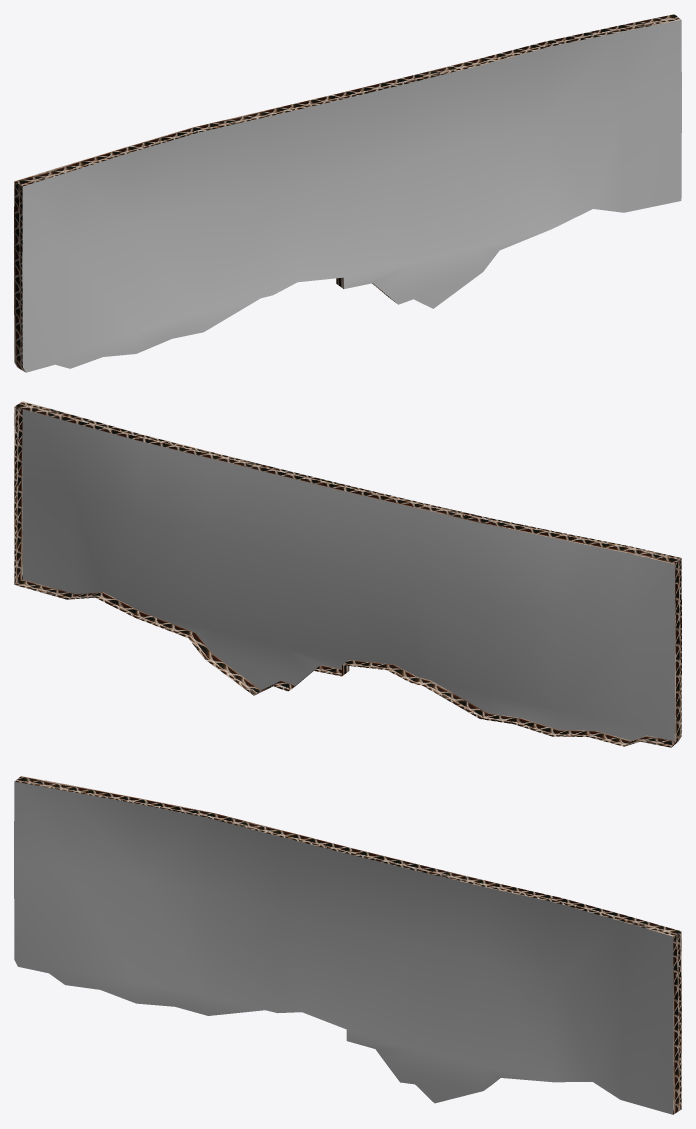
File: SK_Border_002.fbx
3 renders of one model, top to bottom at view 1: azimuth 30°, elevation 25°; view 2: azimuth 150°, elevation 25°; view 3: azimuth 330°, elevation 25°, orthographic.
Parts seen in each view (by area): view 1: Border_002; view 2: Border_002; view 3: Border_002.
Part boxes in pixels (x1=…): Border_002: x1=14, y1=14, x2=681, y2=372; Border_002: x1=14, y1=401, x2=681, y2=747; Border_002: x1=14, y1=776, x2=681, y2=1114.
Bounding box in the file's own units: 658 × 220 × 28.8.
